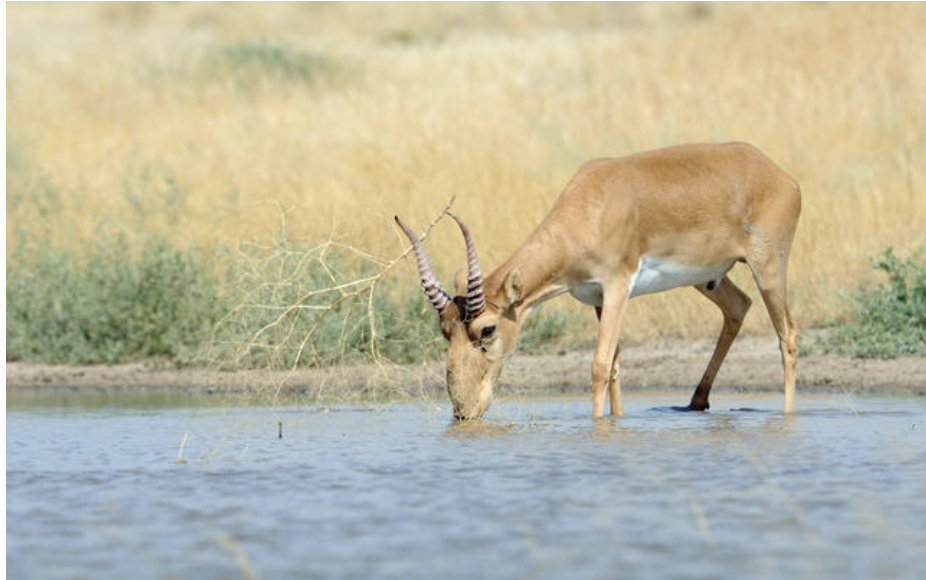saiga: (391, 138, 808, 430)
